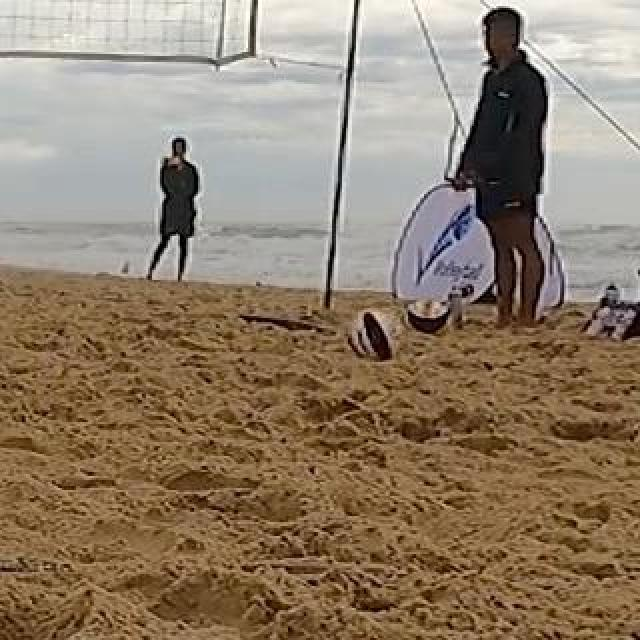volleyball: (347, 309, 401, 361), (404, 297, 452, 341)
